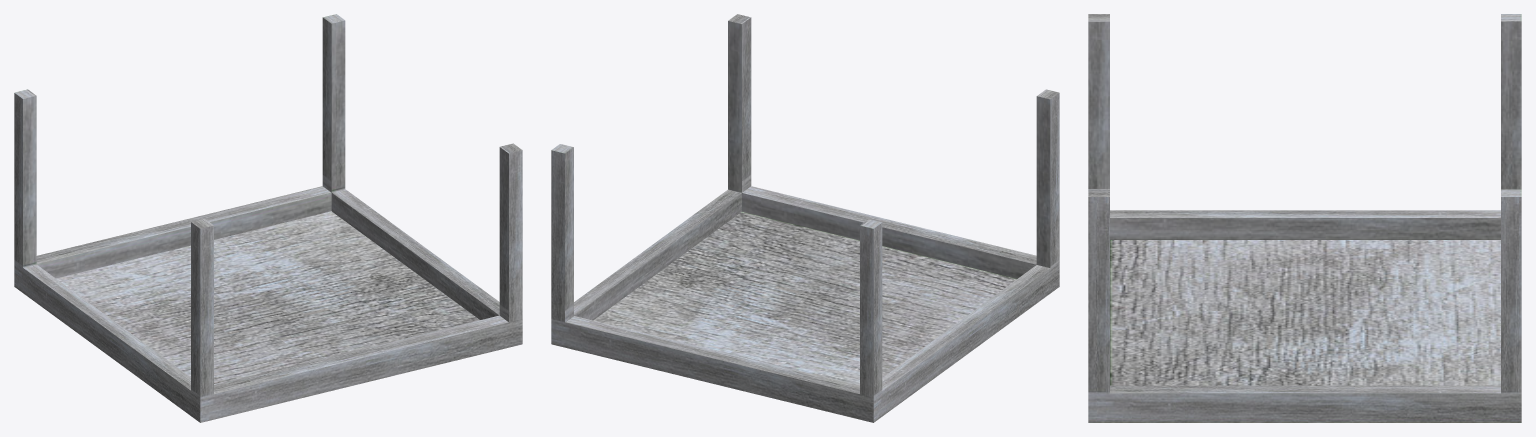
File: Table.fbx
3 views of the same model, side by side, from view 1: azimuth 30°, elevation 25°; view 2: azimuth 150°, elevation 25°; view 3: azimuth 270°, elevation 25° (orthographic). The views are drawn at different scales.
Visible parts, largest first — view 1: Box001; view 2: Box001; view 3: Box001.
Boxes of the visible parts, left/top/right/bottom form: Box001: left=14, top=14, right=522, bottom=422; Box001: left=551, top=14, right=1059, bottom=422; Box001: left=1088, top=14, right=1521, bottom=422.
Size of the model in its own units: 354 by 204 by 354.
